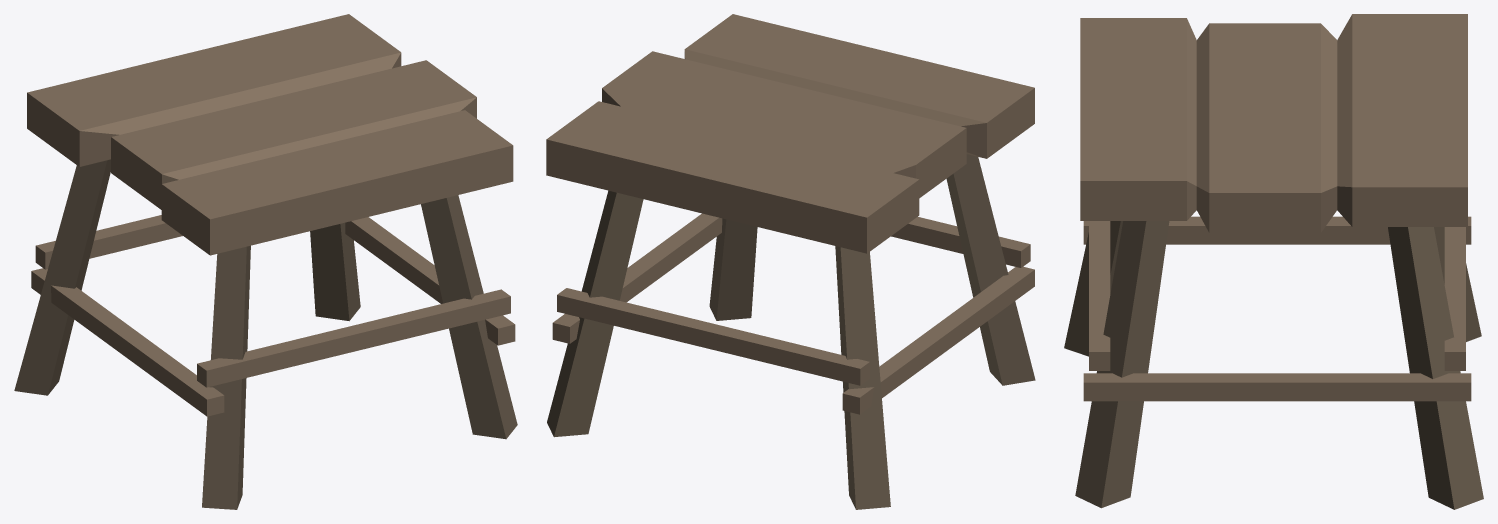
File: SM_Prop_Stool_01.fbx
The picture shows the model from 3 angles, left to right: view 1: azimuth 30°, elevation 25°; view 2: azimuth 150°, elevation 25°; view 3: azimuth 270°, elevation 25°; orthographic projection. The views are drawn at different scales.
Parts seen in each view (by area): view 1: SM_Prop_Stool_01; view 2: SM_Prop_Stool_01; view 3: SM_Prop_Stool_01.
Boxes of the visible parts, left/top/right/bottom form: SM_Prop_Stool_01: left=14, top=14, right=517, bottom=509; SM_Prop_Stool_01: left=546, top=14, right=1035, bottom=509; SM_Prop_Stool_01: left=1064, top=14, right=1483, bottom=509.
Size of the model in its own units: 0.6166 by 0.4865 by 0.5792.
